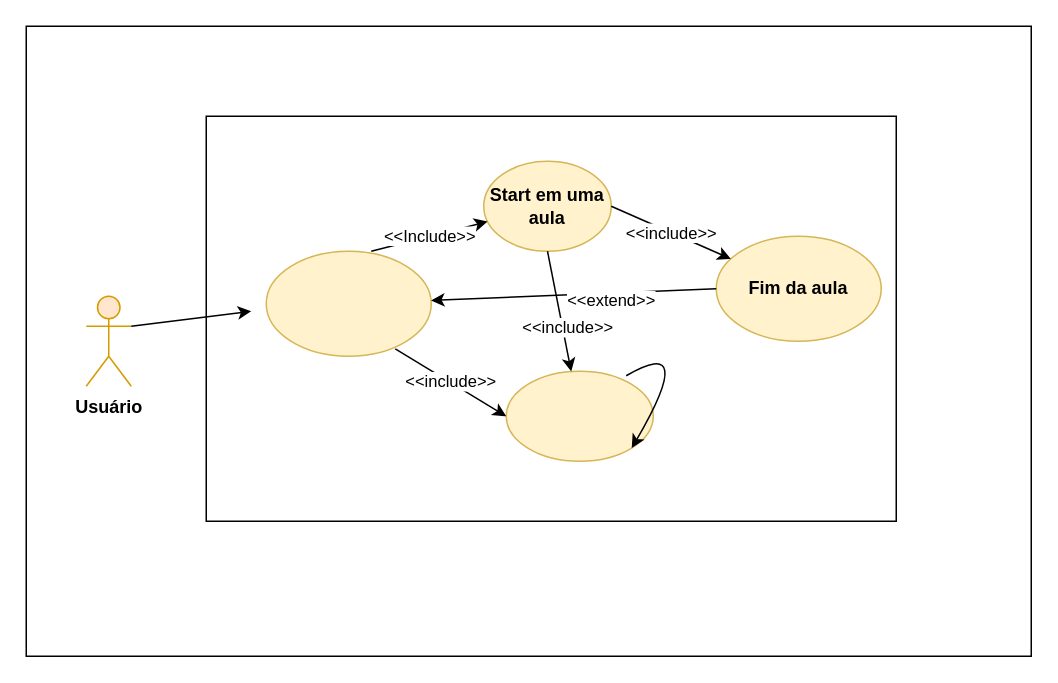
This 1058x683 diagram has some shape labels left out. The shapes that lost their labels are listed below. From the top down, each one's centre as x and y in pixels, then its label:
At [348,303]: "Abrir App - Página inicial".
At [579,415]: "Estudo em tarefas da aula".
